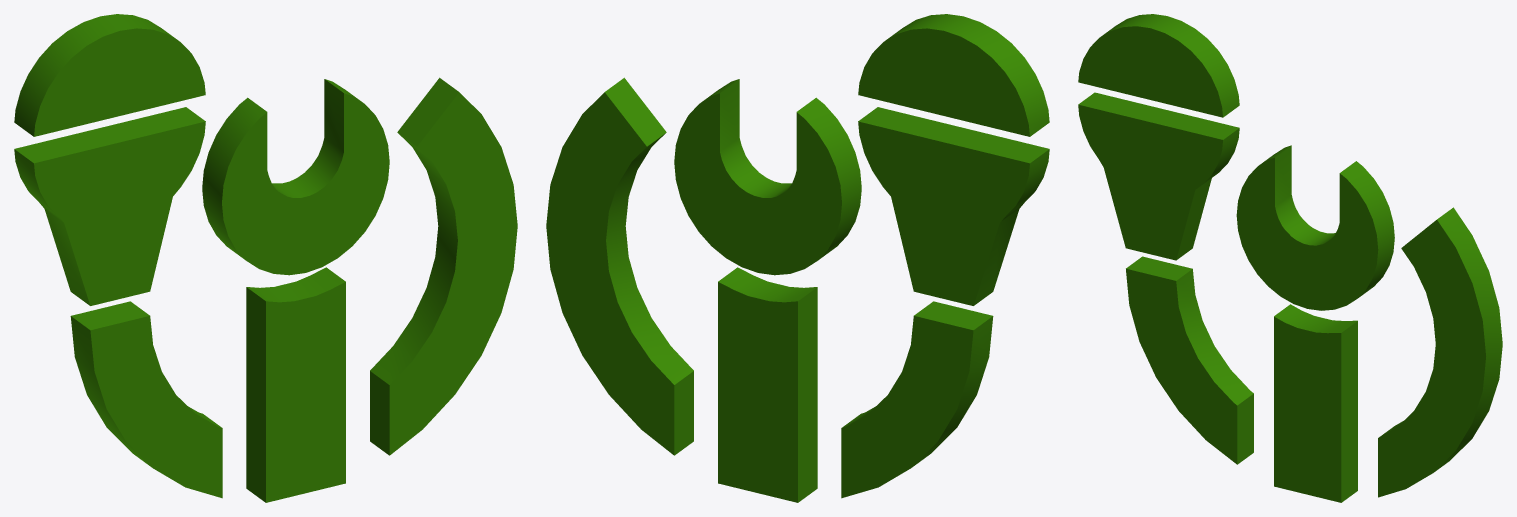
File: options.ico.obj
3 views of the same model, side by side, from view 1: azimuth 30°, elevation 25°; view 2: azimuth 150°, elevation 25°; view 3: azimuth 330°, elevation 25° (orthographic). The views are drawn at different scales.
Bounding box in the file's own units: 4.68 × 4.69 × 0.3303.
Materials: 1 (1 with a texture image).
